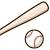baseball bat: (1, 1, 50, 36)
